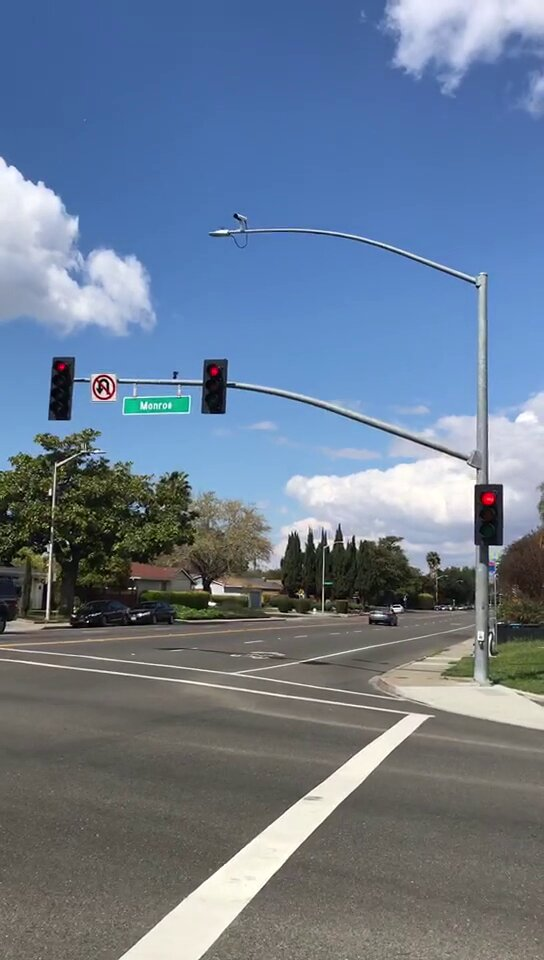red_light: (476, 489, 503, 542), (204, 358, 227, 413), (51, 357, 70, 418)
